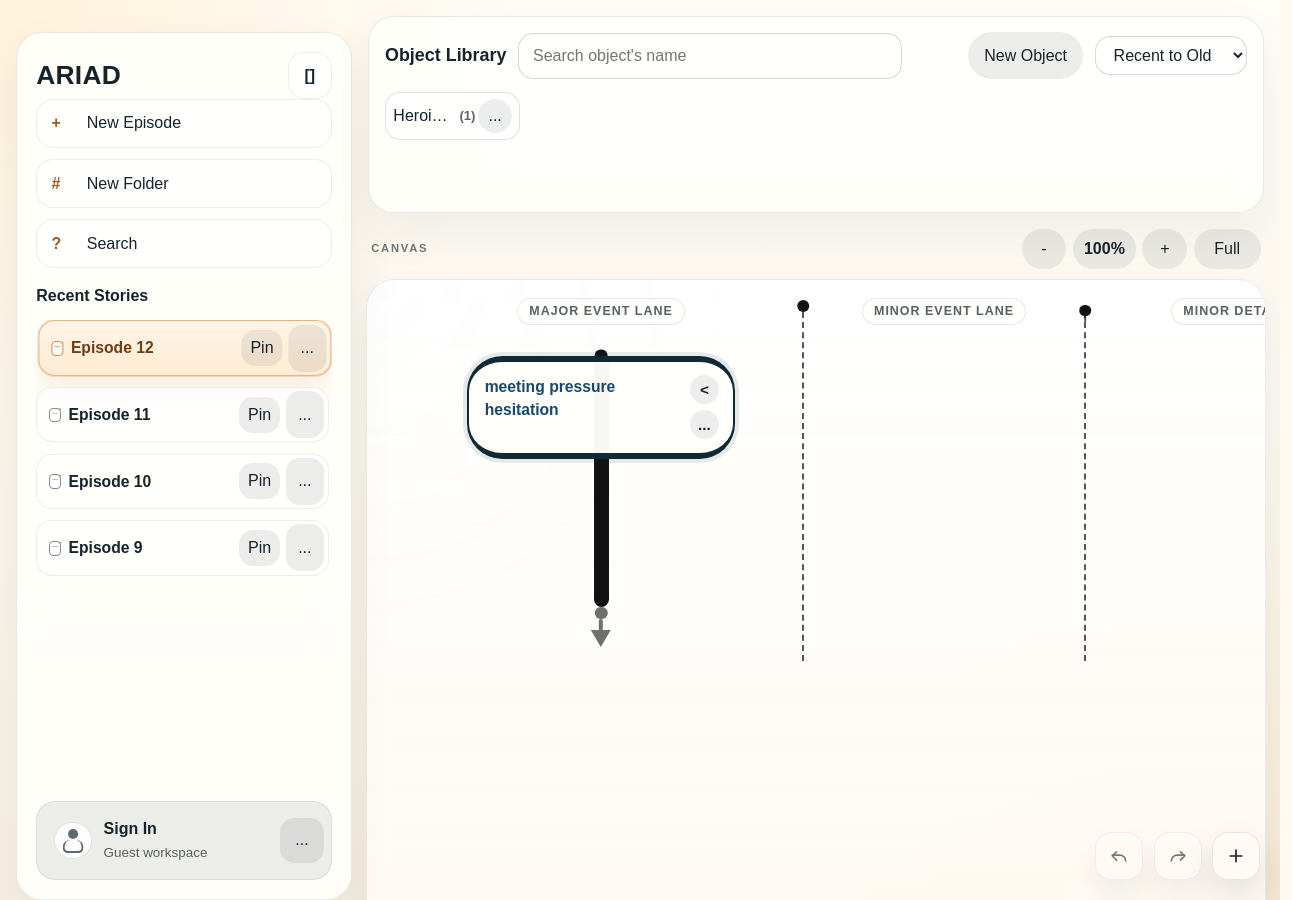
workspace shell recommendation flow › updates the canvas zoom readout from the heading controls
Check: the button named "Reset Zoom" reads "100%", box [1073,229,1136,269]
Click the button named "Zoom In": point(1165, 249) [1142,229,1187,269]
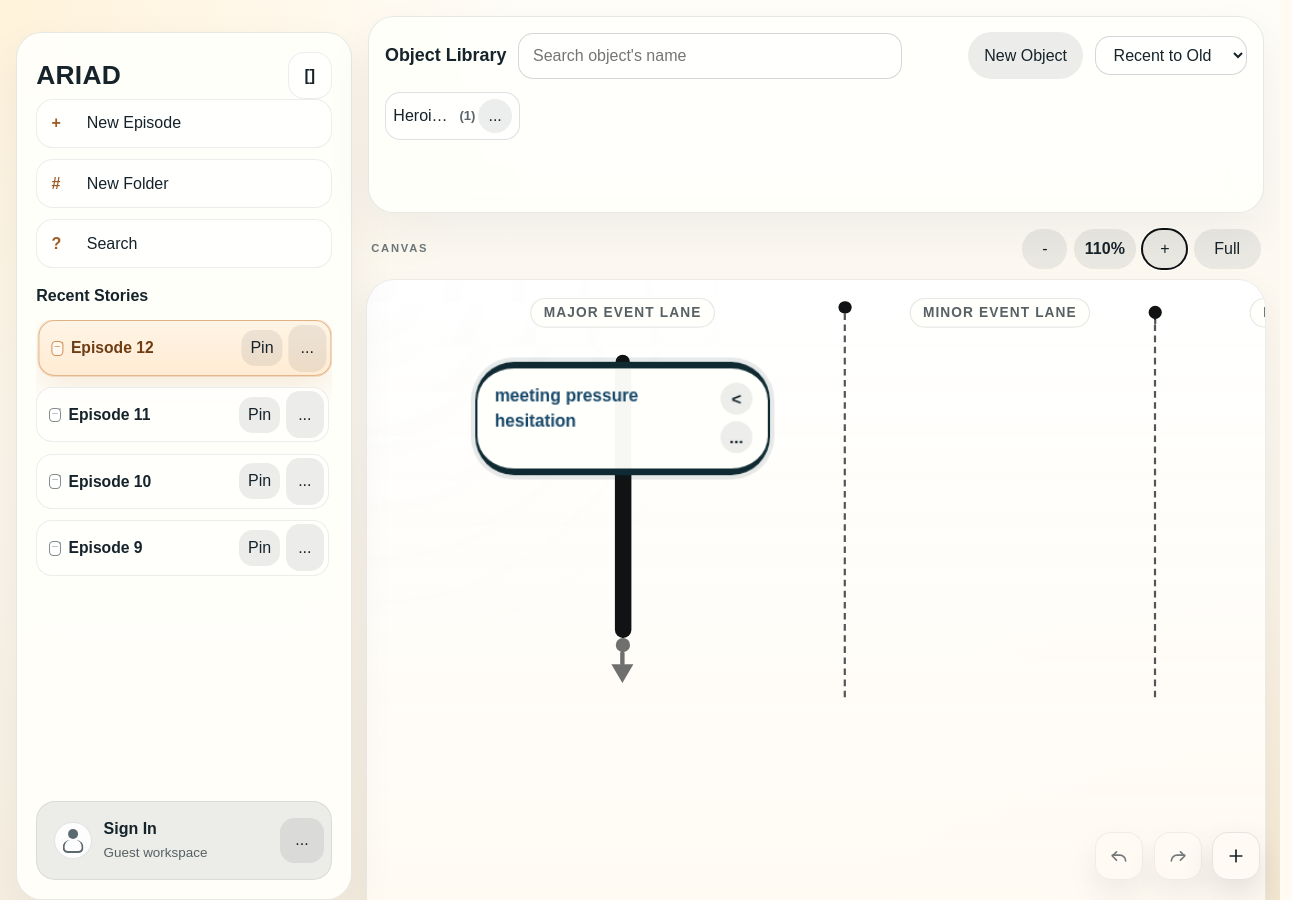
Check: the button named "Reset Zoom" reads "110%", box [1074,229,1136,269]
Click the button named "Zoom Out": point(1045, 249) [1022,229,1067,269]
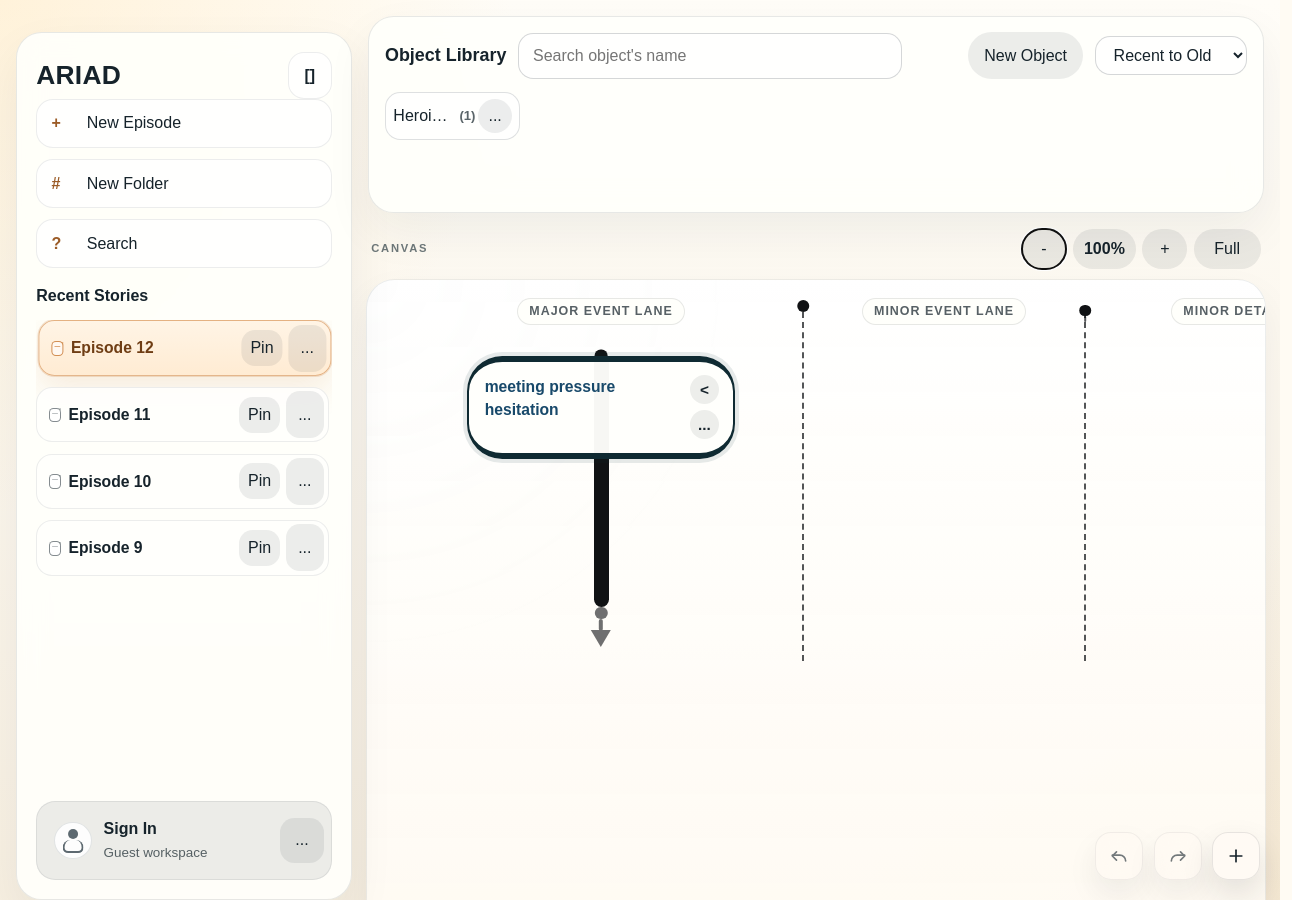
Check: the button named "Reset Zoom" reads "100%", box [1073,229,1136,269]
